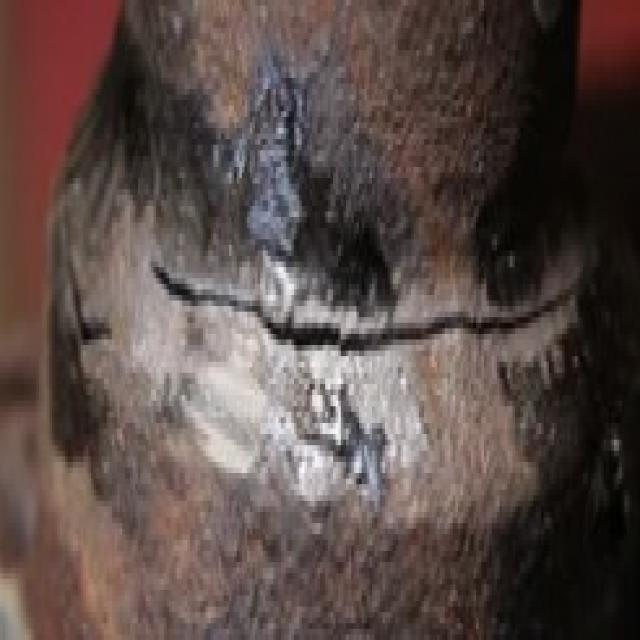Bad Welding: (36, 22, 612, 590)
Crack: (135, 228, 575, 356)
